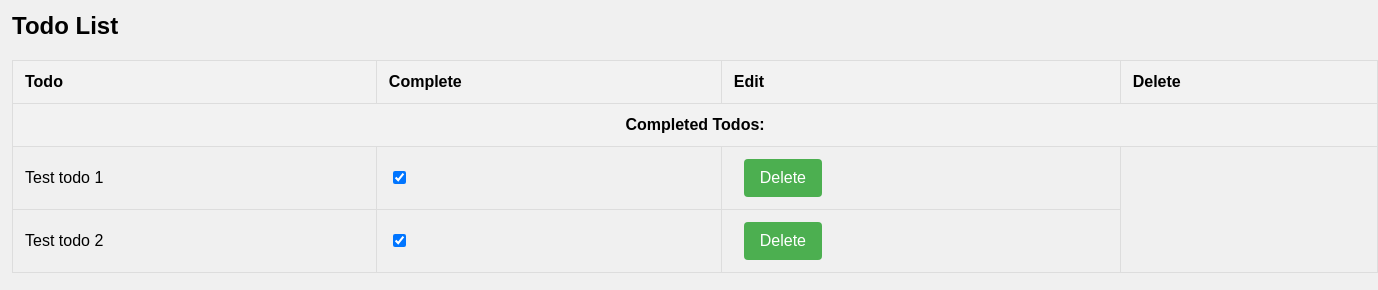
Test: Table Component › deletes a todo
Expected: the text "Test todo 1" is shown, [12,146,376,209]
Click the button with aria-label "Delete Test todo 1": (783, 178) [744,159,822,197]
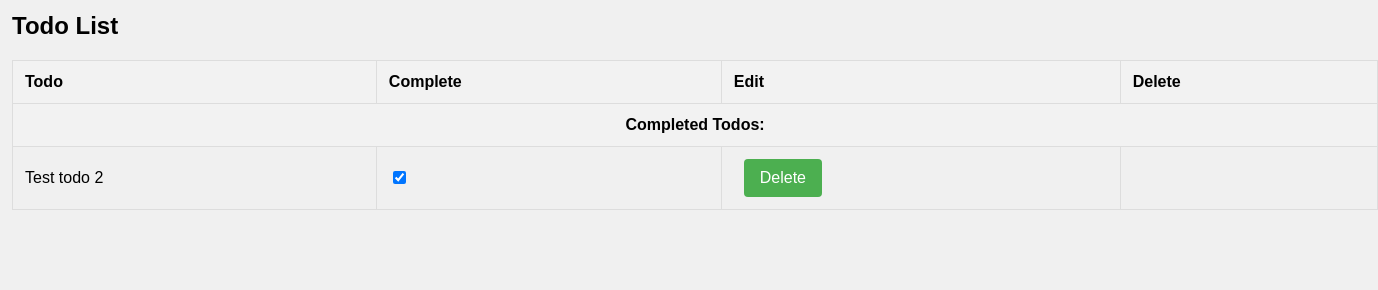
Expected: the text "Test todo 1" is gone
